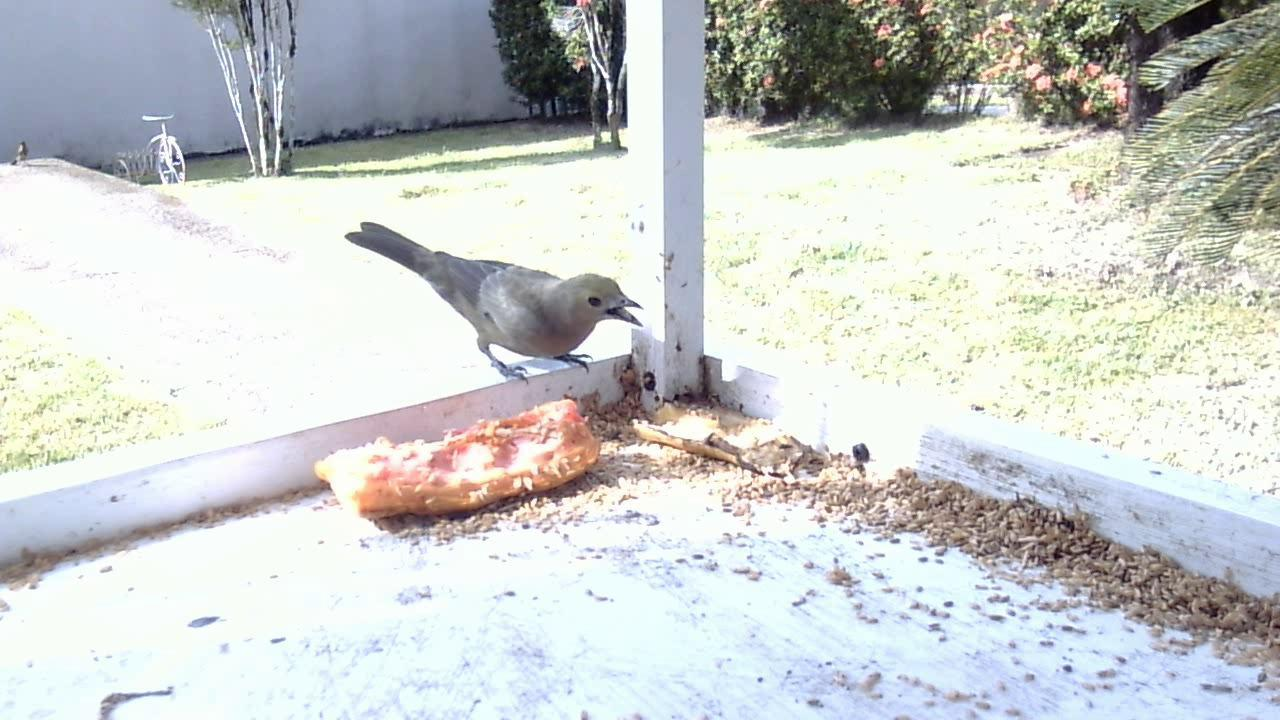sanhaco_do_coqueiro: (342, 223, 651, 397)
